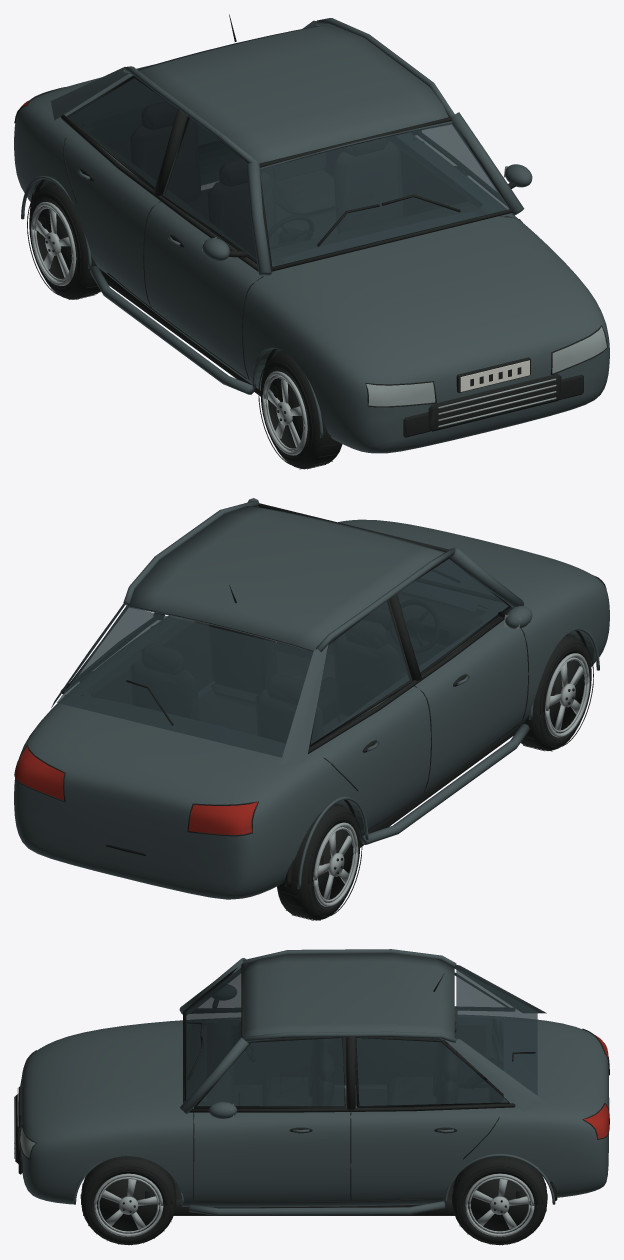
File: parked-car-finish.glb
3 renders of one model, top to bottom at view 1: azimuth 30°, elevation 25°; view 2: azimuth 150°, elevation 25°; view 3: azimuth 270°, elevation 25°, orthographic. The views are drawn at different scales.
Visible parts, largest first — view 1: ParkedCar; view 2: ParkedCar; view 3: ParkedCar.
Boxes of the visible parts, x1,y1,x2,y2 form: ParkedCar: [14, 14, 609, 469]; ParkedCar: [14, 498, 609, 920]; ParkedCar: [14, 949, 609, 1245].
Size of the model in its own units: 2.05 by 1.66 by 4.08.
